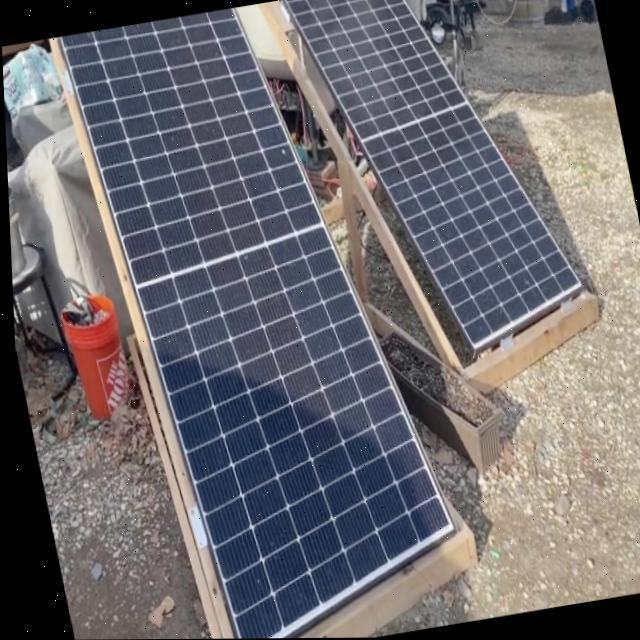Normal Solar Panel: (59, 0, 468, 640), (286, 0, 588, 368)
